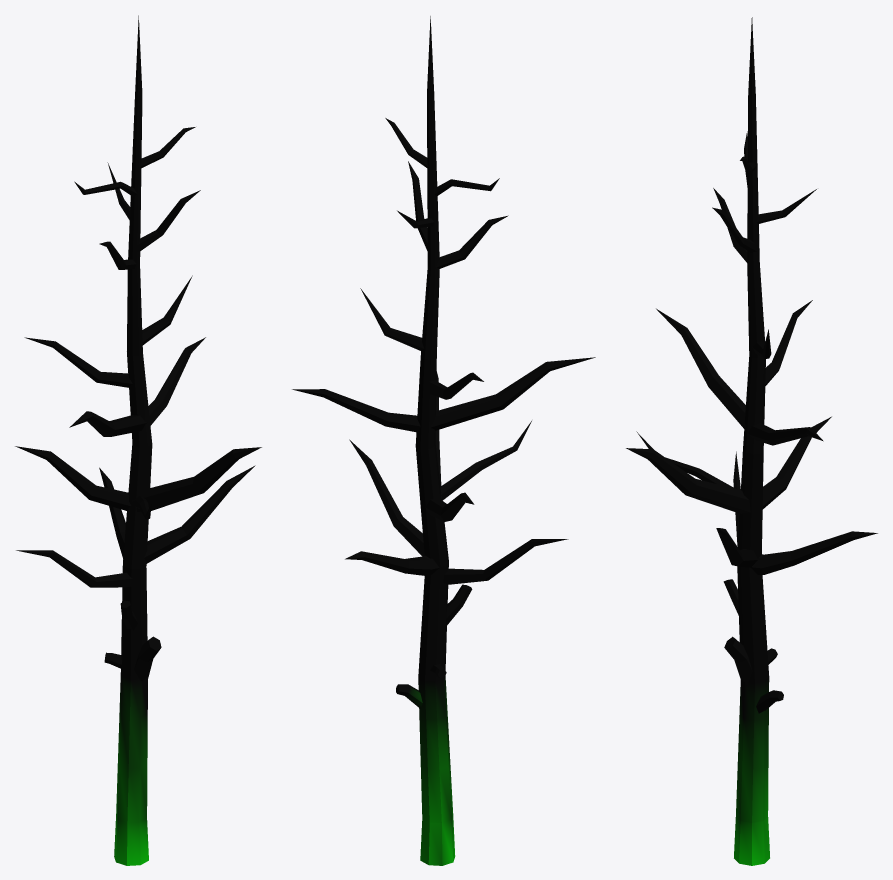
The model's file is SM_Collision_FirTree2.fbx.
3 views of the same model, side by side, from view 1: azimuth 30°, elevation 25°; view 2: azimuth 150°, elevation 25°; view 3: azimuth 270°, elevation 25° (orthographic).
Parts seen in each view (by area): view 1: Collision_FirTree2; view 2: Collision_FirTree2; view 3: Collision_FirTree2.
Part boxes in pixels (x1,y1,x2,y2): Collision_FirTree2: (15,15,261,865); Collision_FirTree2: (292,16,595,865); Collision_FirTree2: (626,17,877,865).
Size of the model in its own units: 467 by 434 by 1602.
